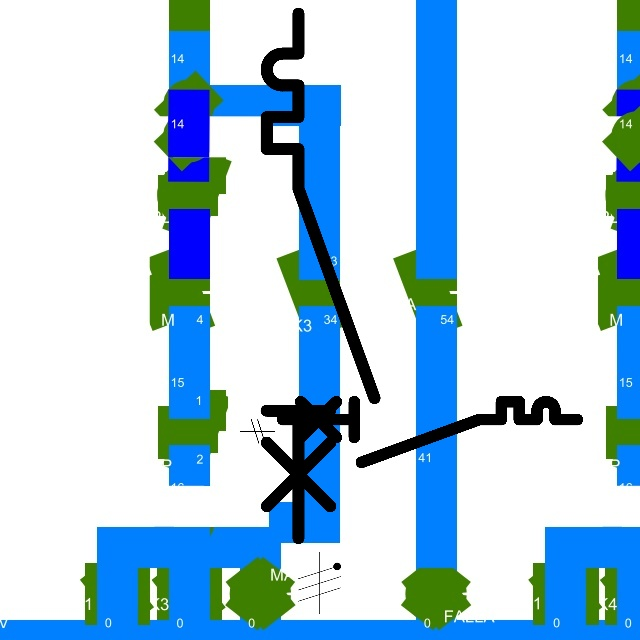interruptor_termomagnetico: (253, 0, 388, 551), (275, 394, 584, 469)
